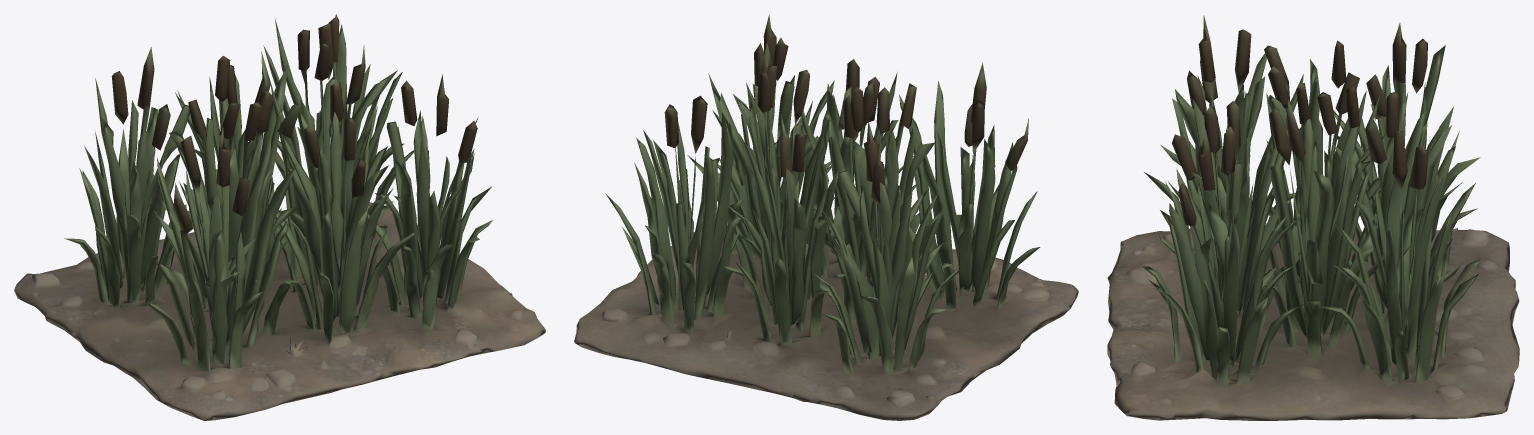
File: journey_reed.glb
The picture shows the model from 3 angles, left to right: view 1: azimuth 30°, elevation 25°; view 2: azimuth 150°, elevation 25°; view 3: azimuth 270°, elevation 25°; orthographic projection. The views are drawn at different scales.
Visible parts, largest first — view 1: tripo_node_70fcc944-45a4-4e95-a543-0f0837f08d7b; view 2: tripo_node_70fcc944-45a4-4e95-a543-0f0837f08d7b; view 3: tripo_node_70fcc944-45a4-4e95-a543-0f0837f08d7b.
Part boxes in pixels (x1,y1,x2,y2): tripo_node_70fcc944-45a4-4e95-a543-0f0837f08d7b: (14, 14, 545, 420); tripo_node_70fcc944-45a4-4e95-a543-0f0837f08d7b: (574, 14, 1078, 420); tripo_node_70fcc944-45a4-4e95-a543-0f0837f08d7b: (1107, 15, 1519, 420).
Bounding box in the file's own units: 1 × 0.6618 × 0.9187.
1 material, 1 textured.
